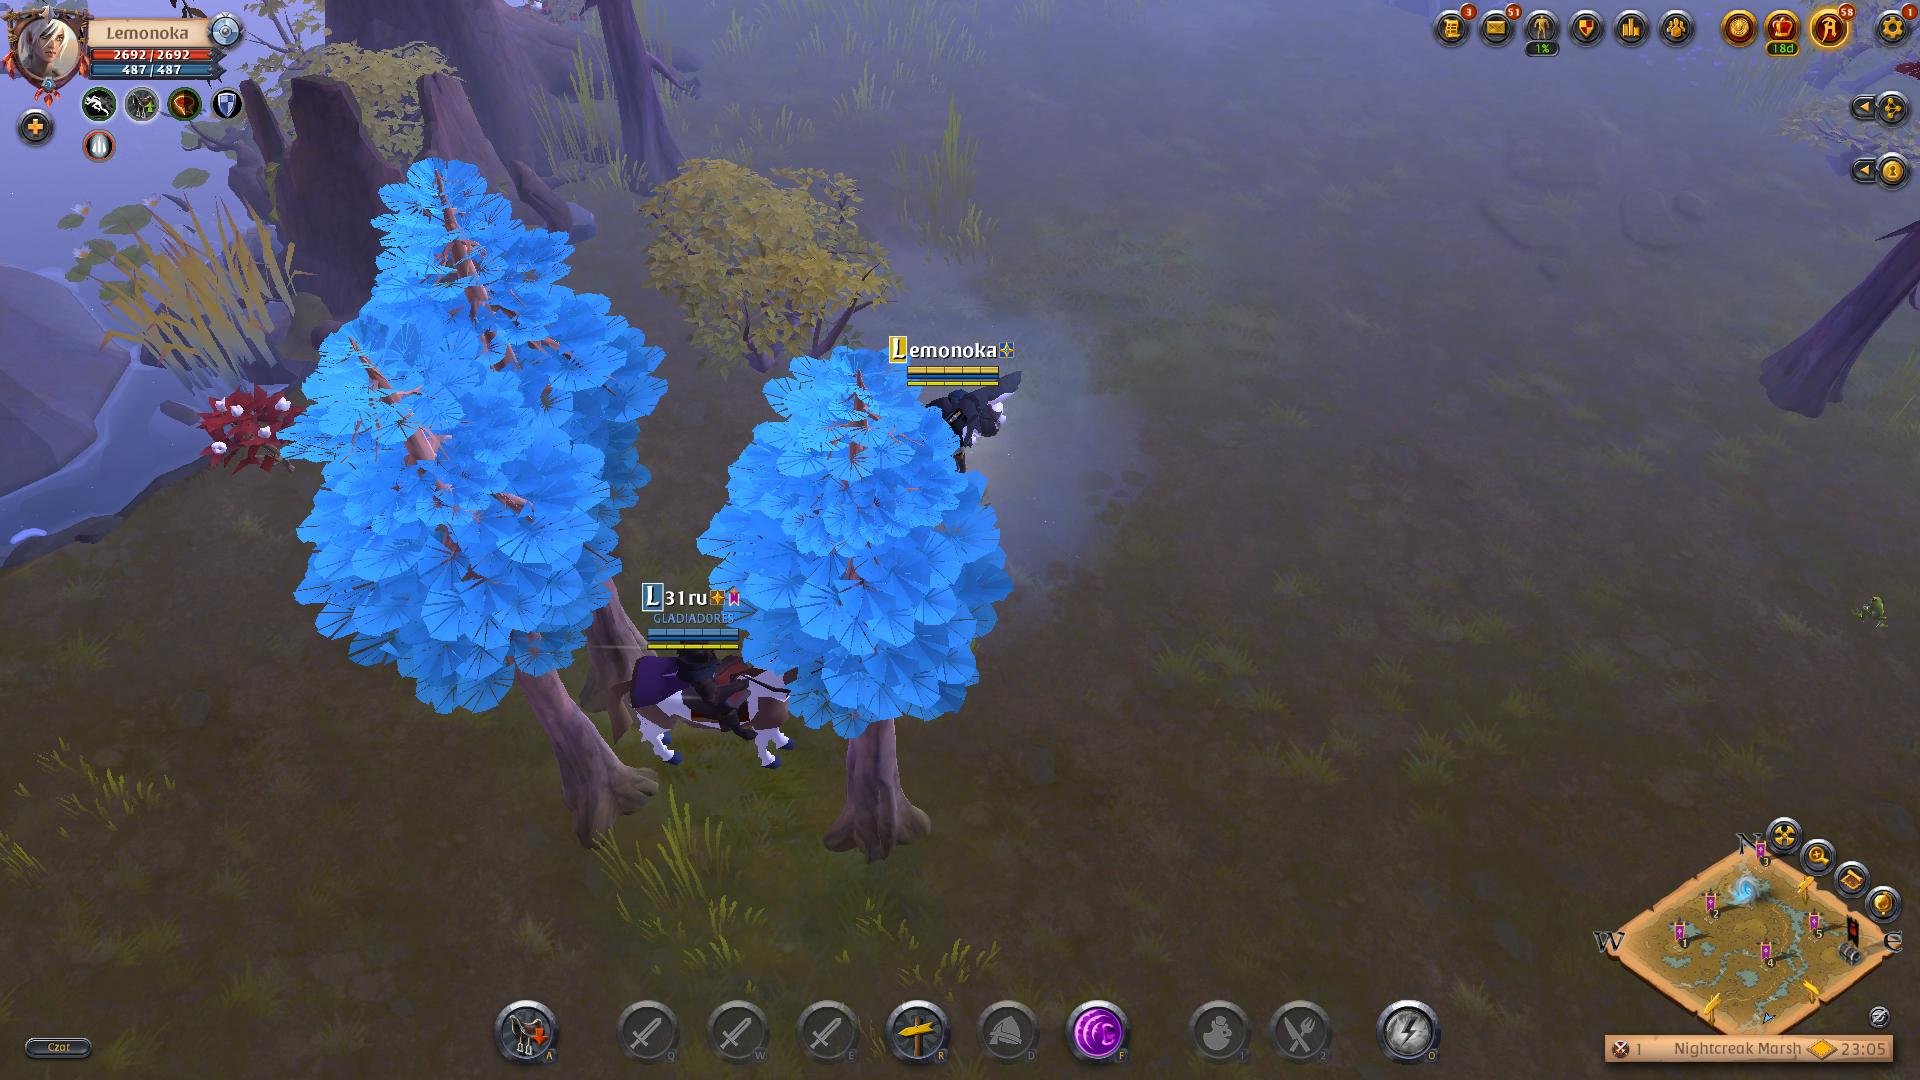fiber tier 5: (194, 381, 303, 475)
wood tier 4: (268, 316, 625, 715), (703, 352, 1015, 744), (348, 156, 671, 531)
